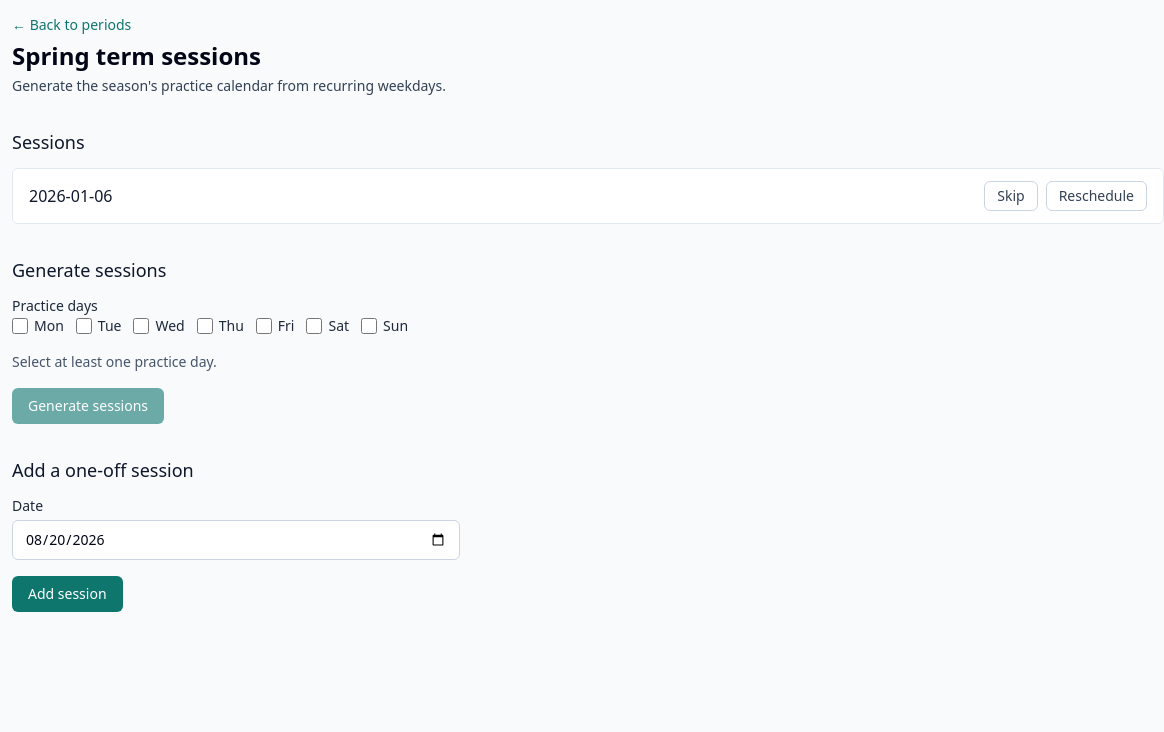
Test: SessionsPage › reschedules a session and reloads the list
Step 1. Click the button "Reschedule" → [1096, 196], box [1046,181,1147,211]
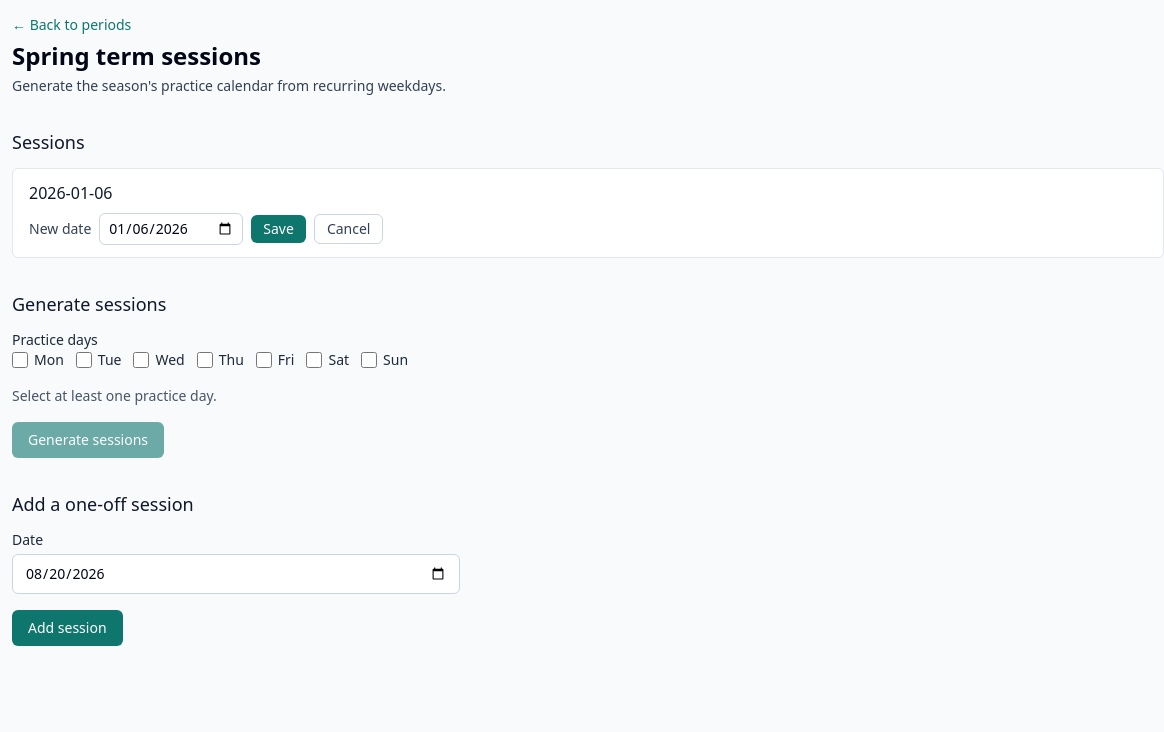
Step 2. Type "2026-01-13" into the date field labelled "New date" → [171, 229], box [99,213,243,245]
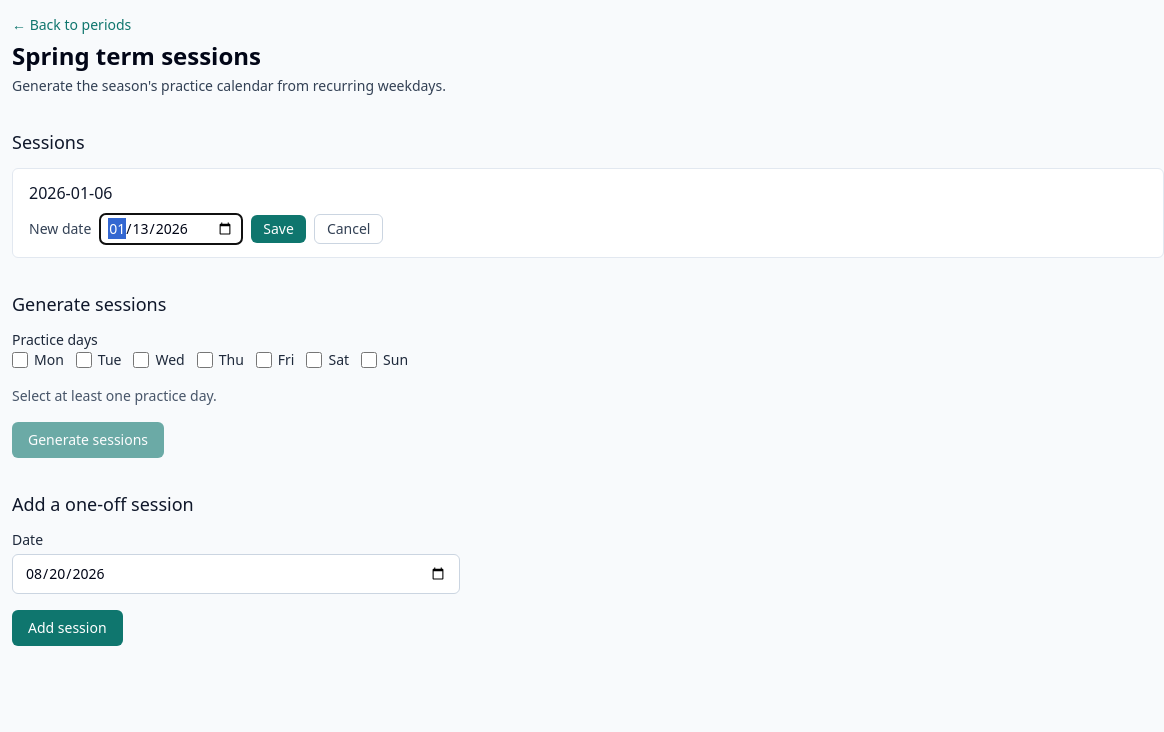
Step 3. Click the button "Save" → [279, 229], box [251,215,306,243]
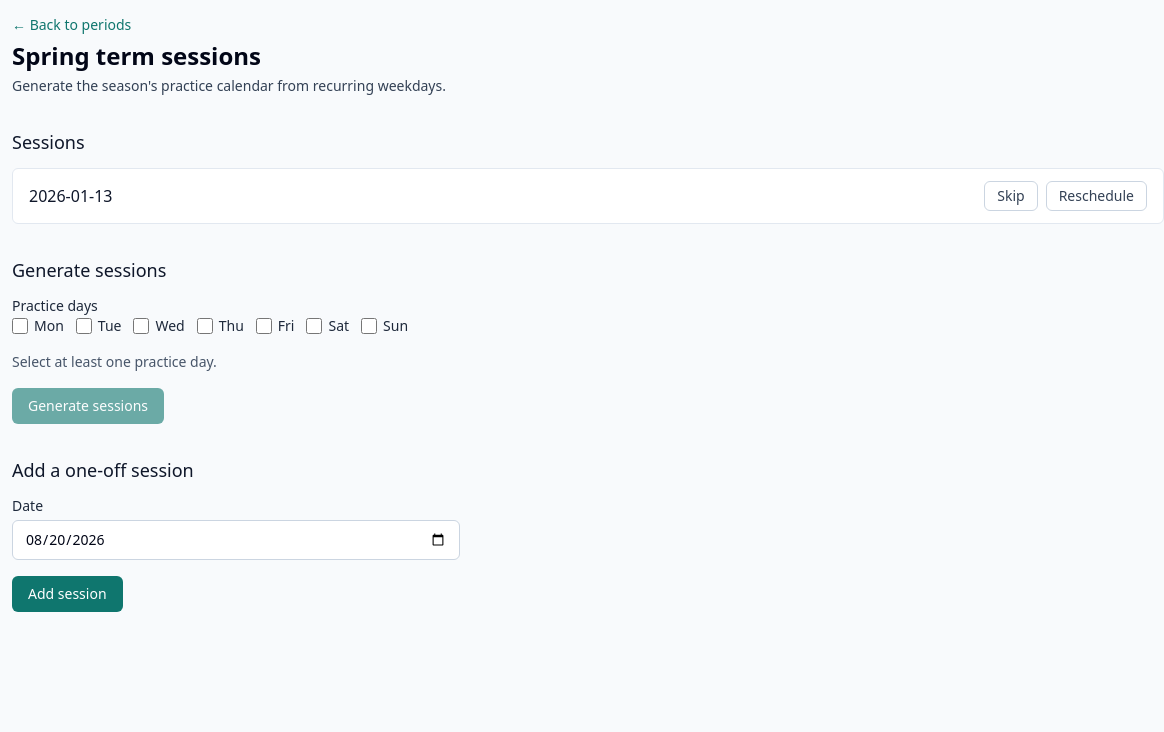
Now the text "2026-01-13" is shown, box [29,185,112,207]
